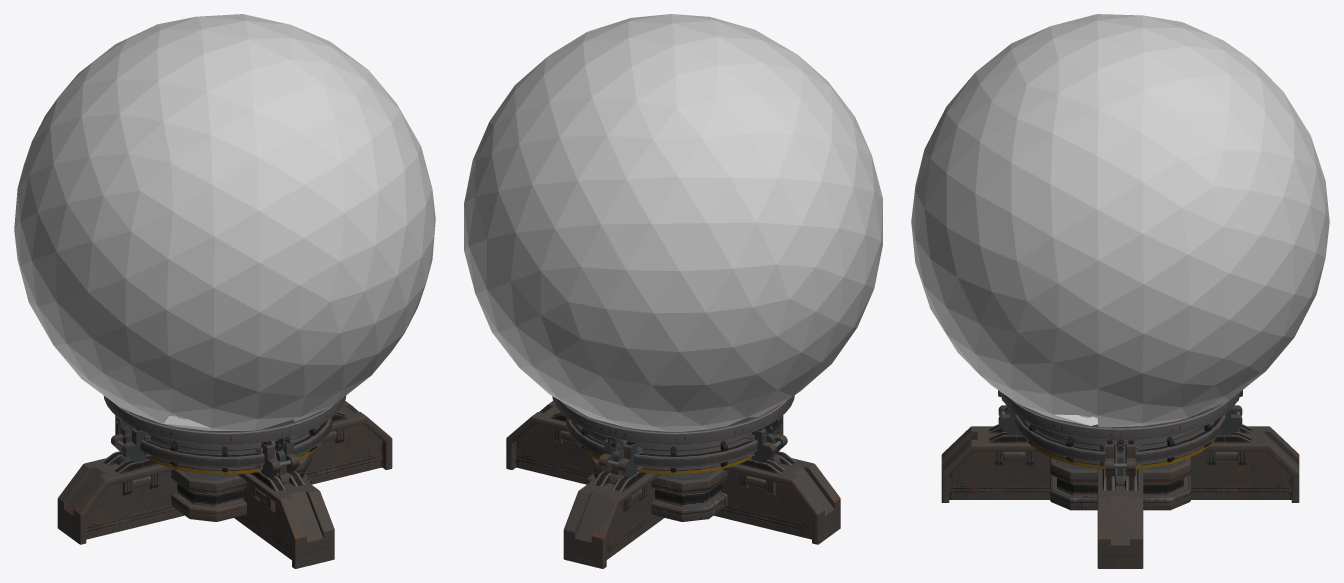
Rendered from Radar_Sphere1.fbx.
The picture shows the model from 3 angles, left to right: view 1: azimuth 30°, elevation 25°; view 2: azimuth 150°, elevation 25°; view 3: azimuth 270°, elevation 25°; orthographic projection.
Visible parts, largest first — view 1: Sphere, Base; view 2: Sphere, Base; view 3: Sphere, Base.
Boxes of the visible parts, x1,y1,x2,y2 form: Sphere: (14, 14, 435, 431); Base: (57, 395, 392, 568); Sphere: (464, 14, 882, 431); Base: (506, 395, 840, 568); Sphere: (911, 14, 1329, 427); Base: (941, 390, 1299, 568).
Size of the model in its own units: 289 by 352 by 291.
